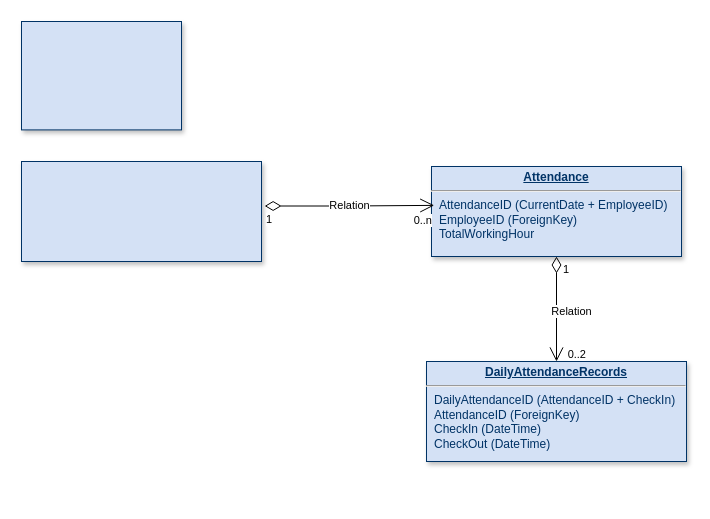
This 710x519 diagram has some shape labels left out. The centre of each missing label's shape, as x and y in pixels:
"Admin UserID Name Password" belongs at pixel 102 76.
"Employee EmployeeID Password QR Code QR Data (URL string, proably not needed)" belongs at pixel 142 212.
